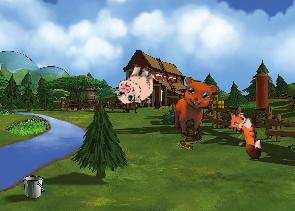bear: (172, 76, 218, 137)
fox: (222, 106, 263, 162)
pig: (111, 58, 161, 111)
